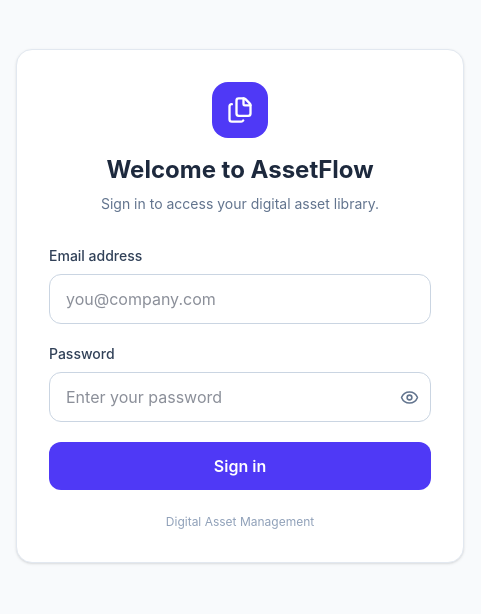
Test: Login › displays an accessible error alert when login fails
Type "user@company.com" into the field labelled "Email address".
click(240, 299); type("user@company.com")  # box [49,274,431,324]
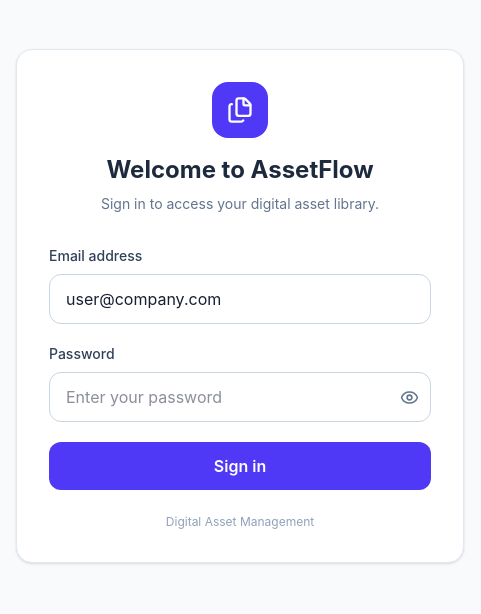
Type "wrongpass" into the password field labelled "Password".
click(240, 397); type("wrongpass")  # box [49,372,431,422]
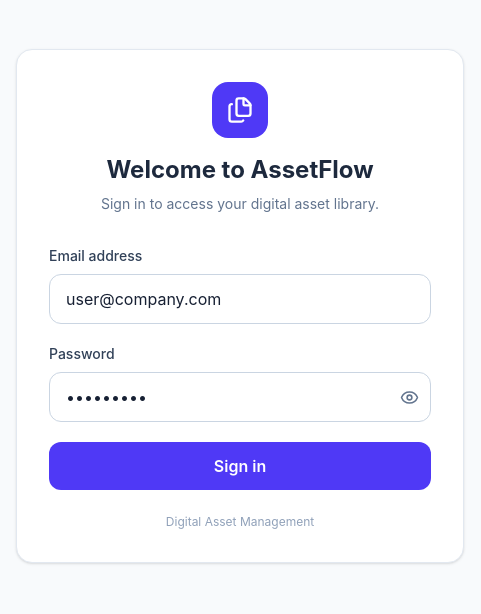
Click the button "Sign in".
click(240, 466)  # box [49,442,431,490]
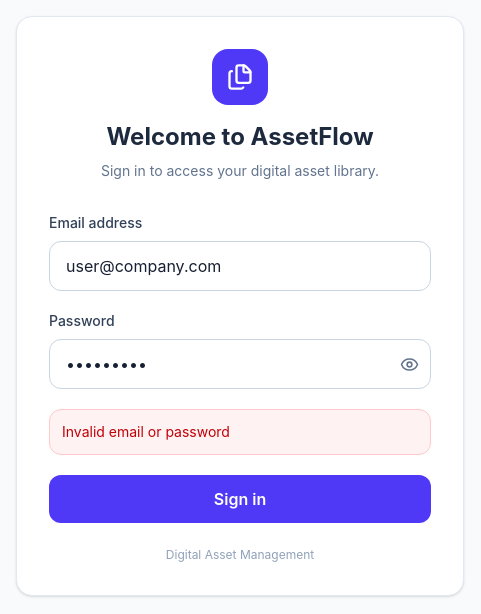
Expected: the message reads "Invalid email or password", [62,423,230,440]
